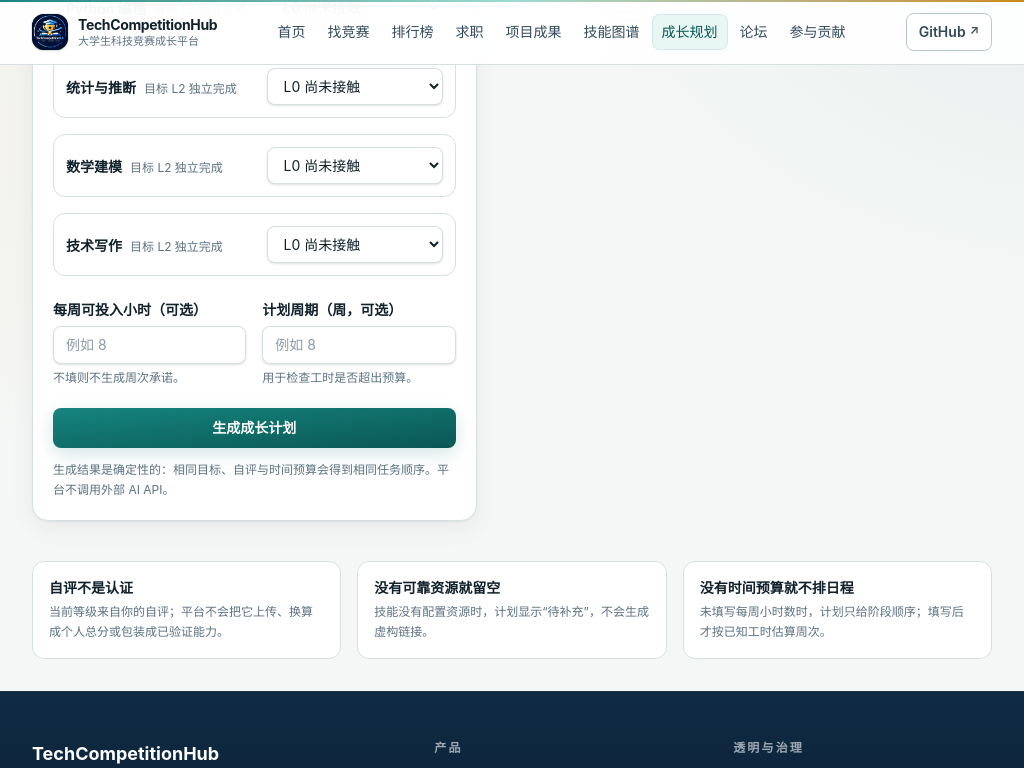
核心页面 › 成长规划器可生成包含阶段与验收标准的计划
(page scrolled)
Step 1. Click the button "生成成长计划" → (254,428), box left=53, top=408, right=456, bottom=448
(page scrolled)
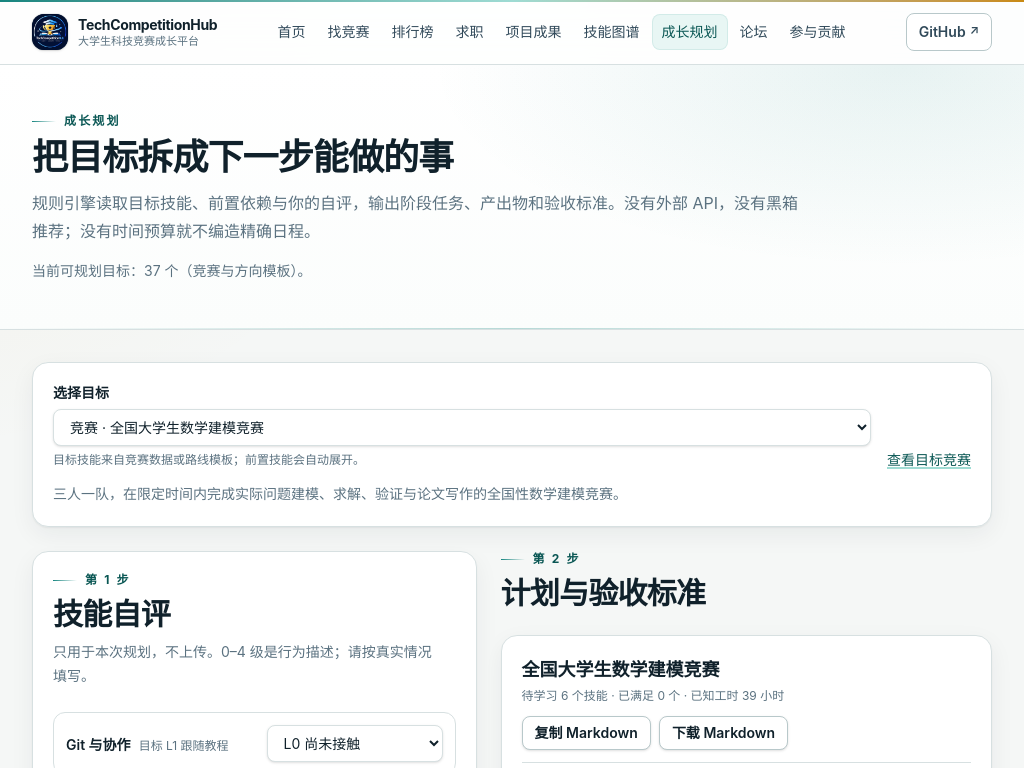
Check: the text "自评" is shown, box left=32, top=189, right=800, bottom=245
Check: the button "复制 Markdown" is shown, box left=522, top=716, right=651, bottom=750
Check: the button "下载 Markdown" is shown, box left=659, top=716, right=788, bottom=750
